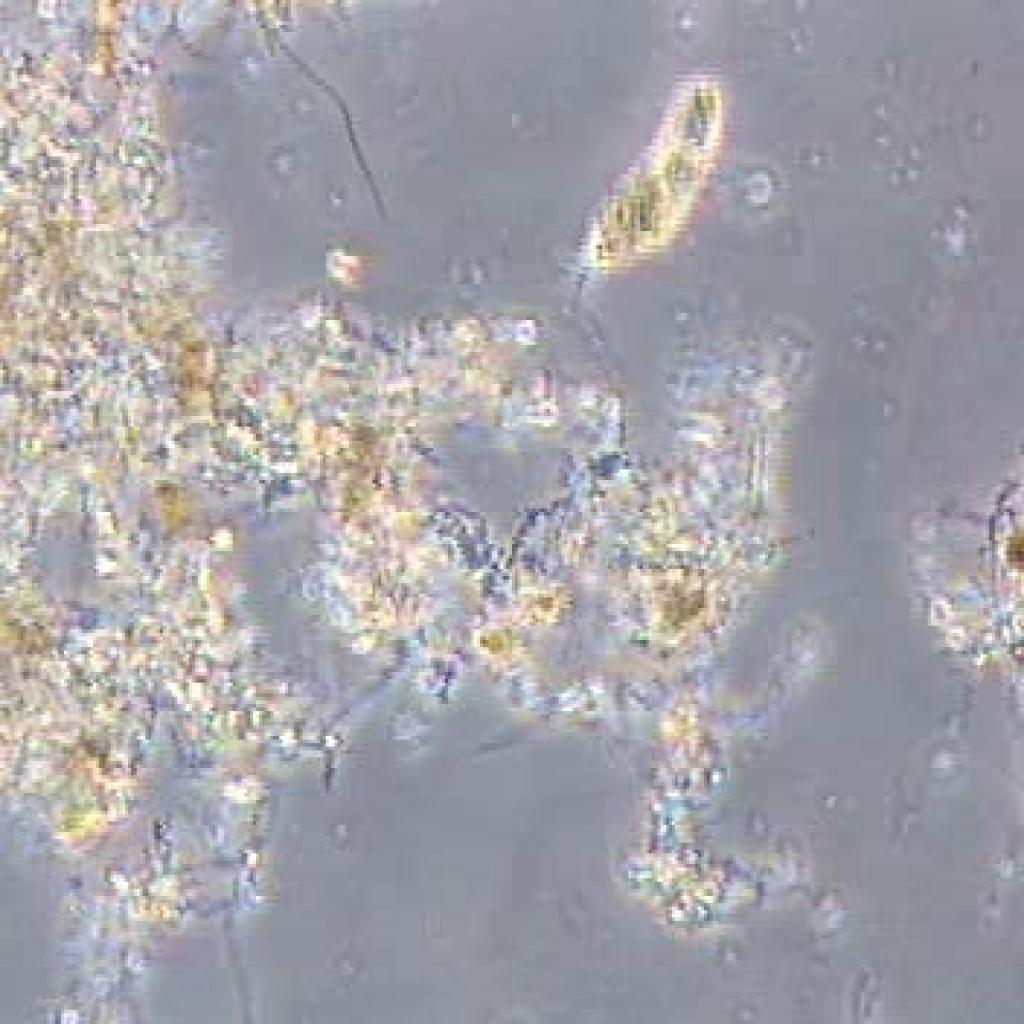Chaetonotus: (578, 66, 734, 276)
